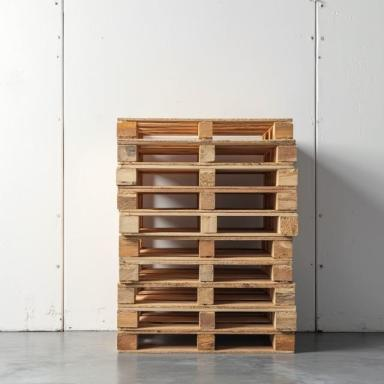pallet: (117, 138, 297, 166), (116, 164, 298, 189), (117, 307, 297, 332), (119, 212, 298, 237), (117, 283, 296, 308), (118, 236, 293, 261), (117, 189, 297, 213), (119, 260, 293, 284), (117, 330, 295, 353), (117, 117, 294, 140), (215, 312, 272, 330), (136, 194, 197, 209), (215, 193, 263, 210), (142, 172, 199, 186), (214, 288, 265, 302), (140, 216, 198, 228), (215, 334, 272, 346), (217, 216, 264, 230), (138, 334, 197, 345), (215, 174, 264, 187), (214, 265, 262, 278), (137, 155, 198, 162), (140, 265, 199, 272), (143, 240, 198, 247), (215, 155, 263, 163), (215, 240, 261, 248), (139, 311, 198, 316), (139, 287, 197, 292)
